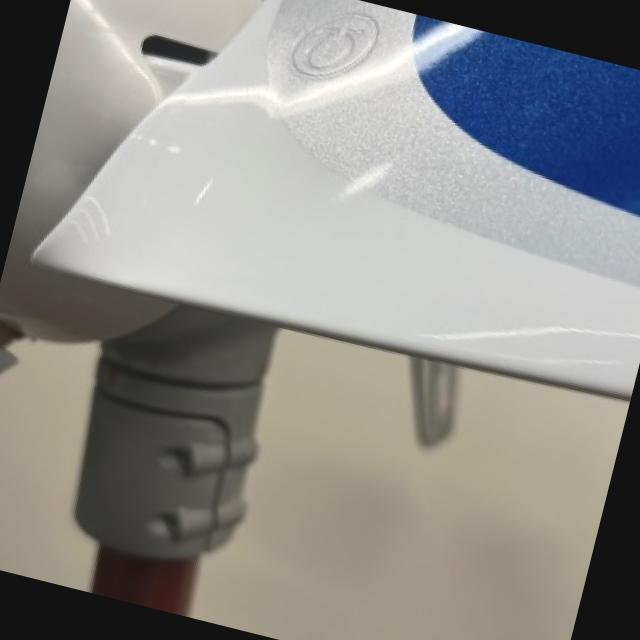healthy: (191, 328, 627, 640), (0, 342, 94, 589)
